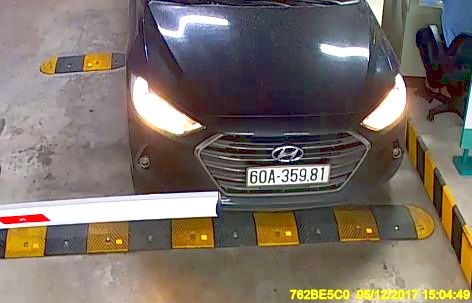plate: (242, 157, 332, 193)
